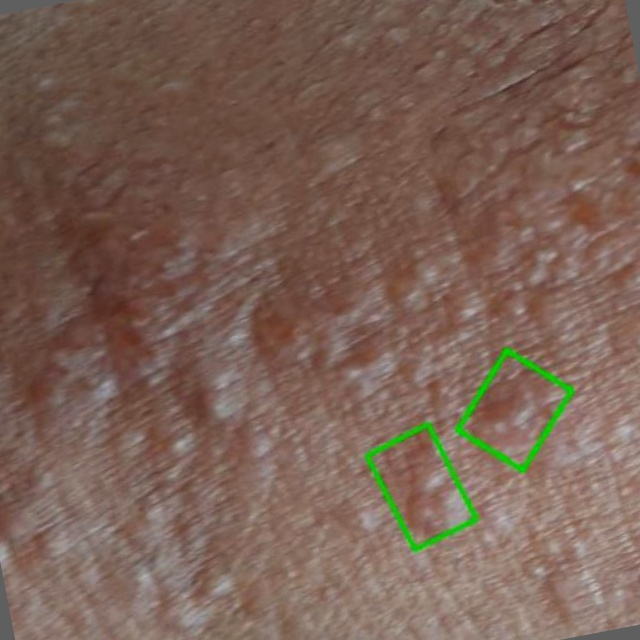Seborrheic Dermatitis: (456, 350, 571, 471), (366, 425, 475, 550)
